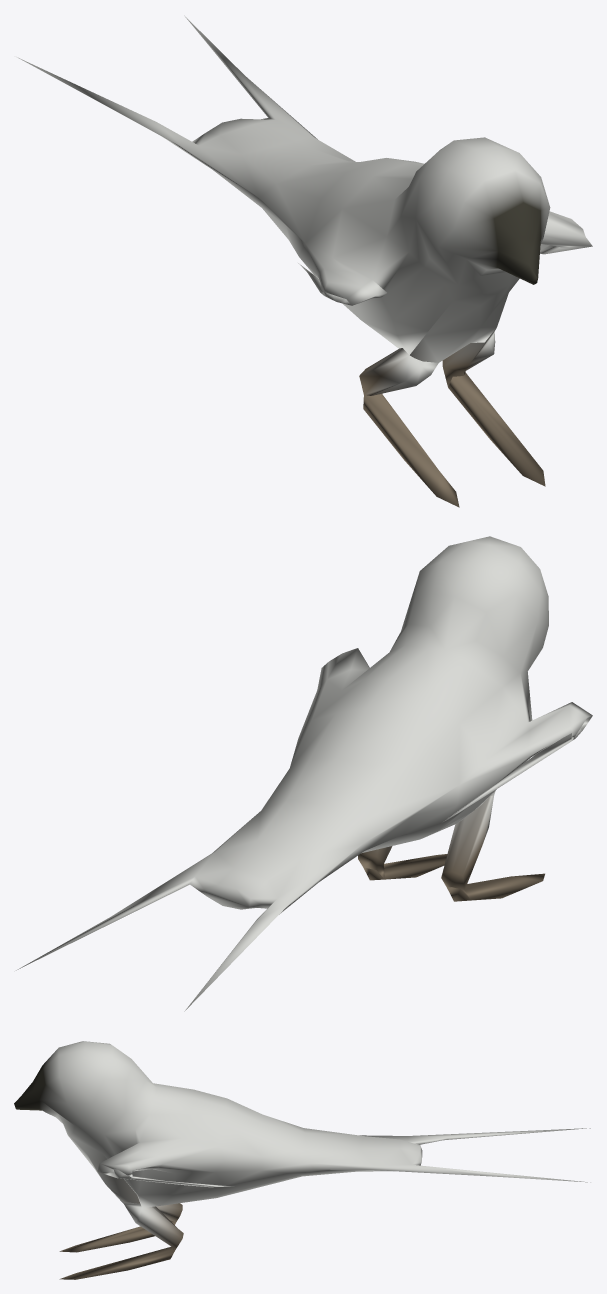
Rendered from swallow-0.glb.
3 views of the same model, one above another, from view 1: azimuth 30°, elevation 25°; view 2: azimuth 150°, elevation 25°; view 3: azimuth 270°, elevation 25° (orthographic). The views are drawn at different scales.
Visible parts, largest first — view 1: swallow; view 2: swallow; view 3: swallow.
Part boxes in pixels (bbox=[...]): swallow: bbox=[17, 15, 592, 507]; swallow: bbox=[16, 536, 592, 1011]; swallow: bbox=[14, 1041, 590, 1279].
Size of the model in its own units: 0.0717 by 0.0909 by 0.2151.
